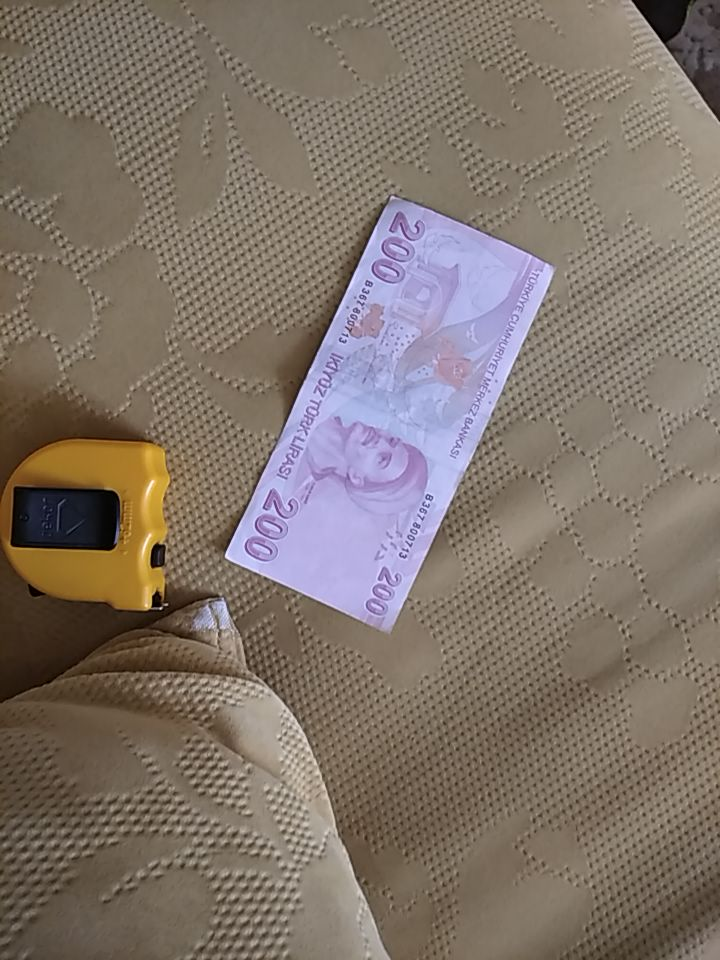200TL: (223, 195, 557, 635)
